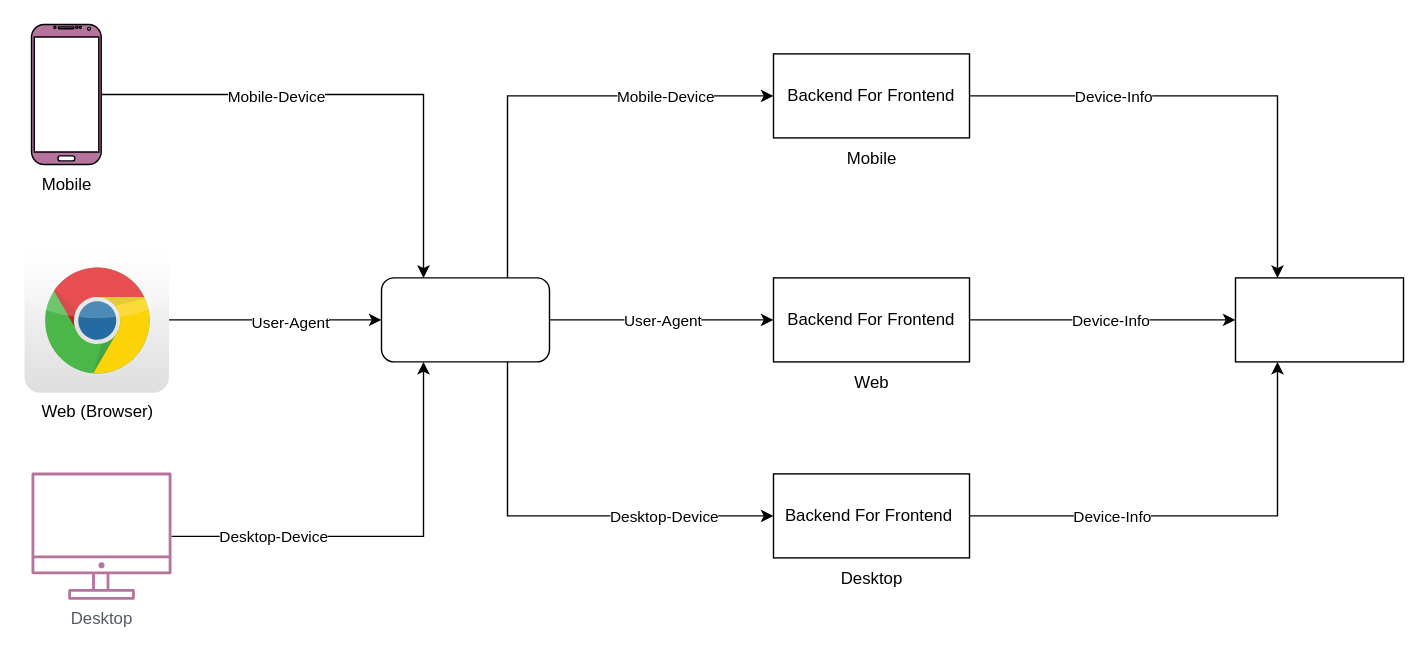
The diagram is 1428 pixels wide and 654 high, and some of its shapes have lost their labels. Each missing label, with the centre of its shape:
Backend: (x=1319, y=319)
NGINX: (x=465, y=319)
